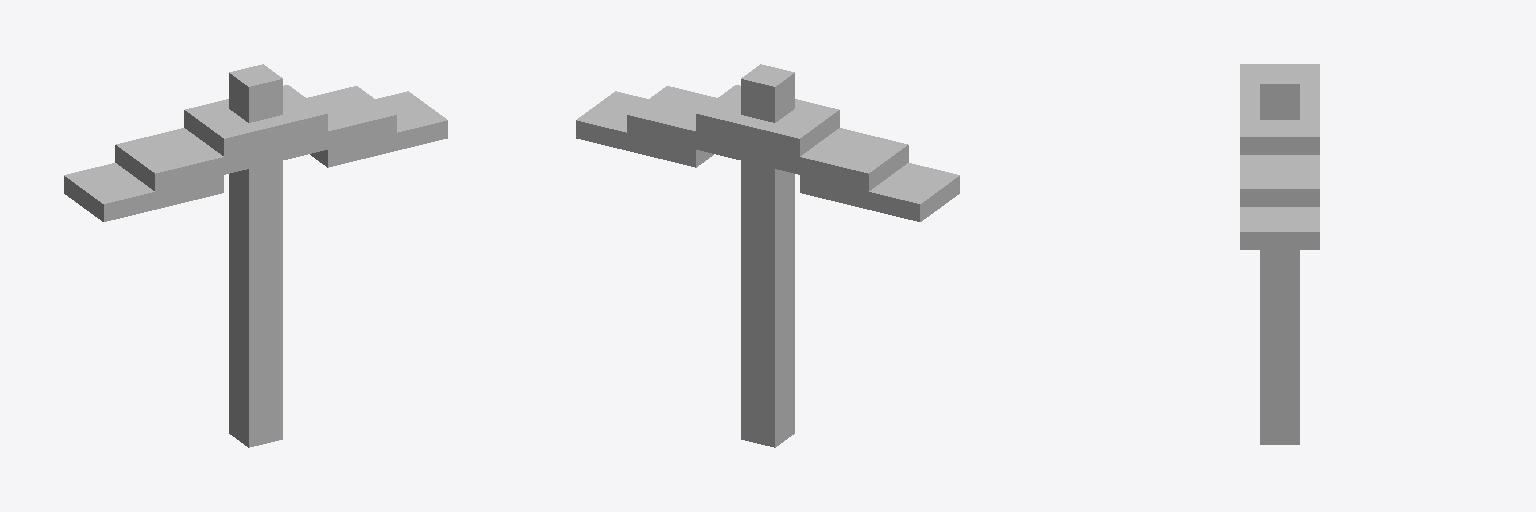
File: pickaxe.obj
3 views of the same model, side by side, from view 1: azimuth 30°, elevation 25°; view 2: azimuth 150°, elevation 25°; view 3: azimuth 270°, elevation 25° (orthographic).
Visible parts, largest first — view 1: object 1; view 2: object 1; view 3: object 1.
Boxes of the visible parts, x1,y1,x2,y2 form: object 1: [64, 64, 447, 447]; object 1: [576, 64, 959, 447]; object 1: [1240, 64, 1319, 444].
Bounding box in the file's own units: 2 × 2 × 0.4.